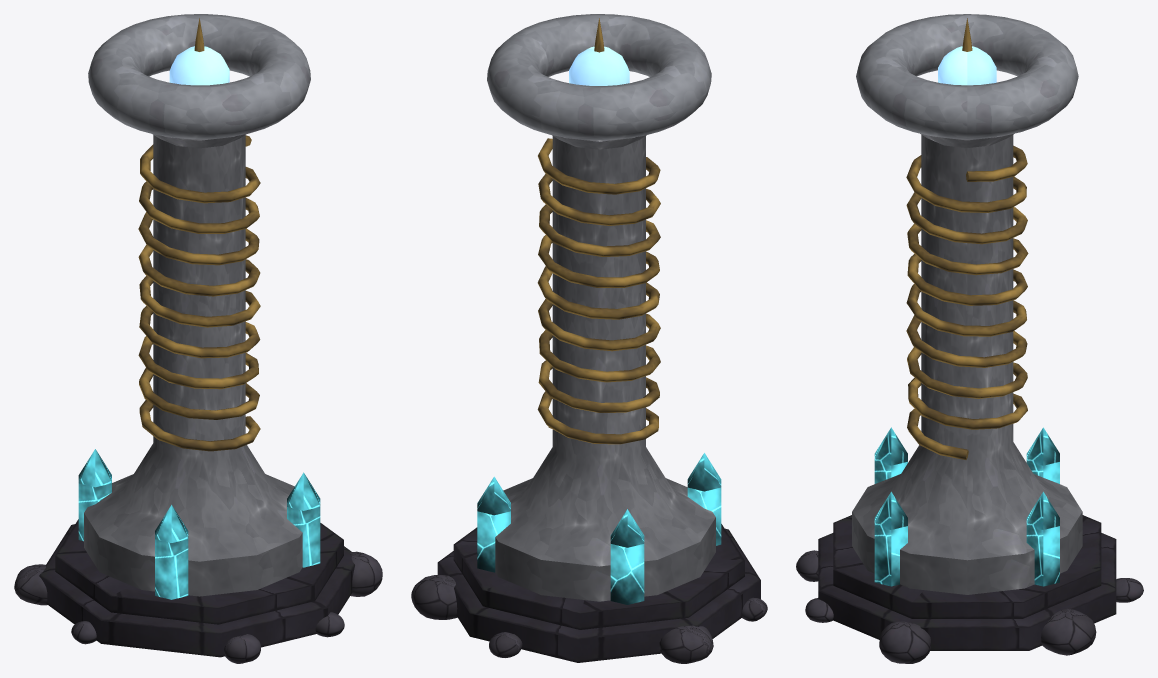
The model's file is tesla.glb.
The picture shows the model from 3 angles, left to right: view 1: azimuth 30°, elevation 25°; view 2: azimuth 150°, elevation 25°; view 3: azimuth 270°, elevation 25°; orthographic projection.
Visible parts, largest first — view 1: Base, Turret; view 2: Base, Turret; view 3: Base, Turret.
Boxes of the visible parts, left/top/right/bottom form: Base: left=14, top=134, right=382, bottom=663; Turret: left=88, top=14, right=310, bottom=138; Base: left=411, top=135, right=767, bottom=663; Turret: left=487, top=14, right=711, bottom=140; Base: left=796, top=133, right=1143, bottom=663; Turret: left=856, top=14, right=1078, bottom=138.
Bounding box in the file's own units: 0.8856 × 1.67 × 0.906.
Materials: 7 (7 with a texture image).
